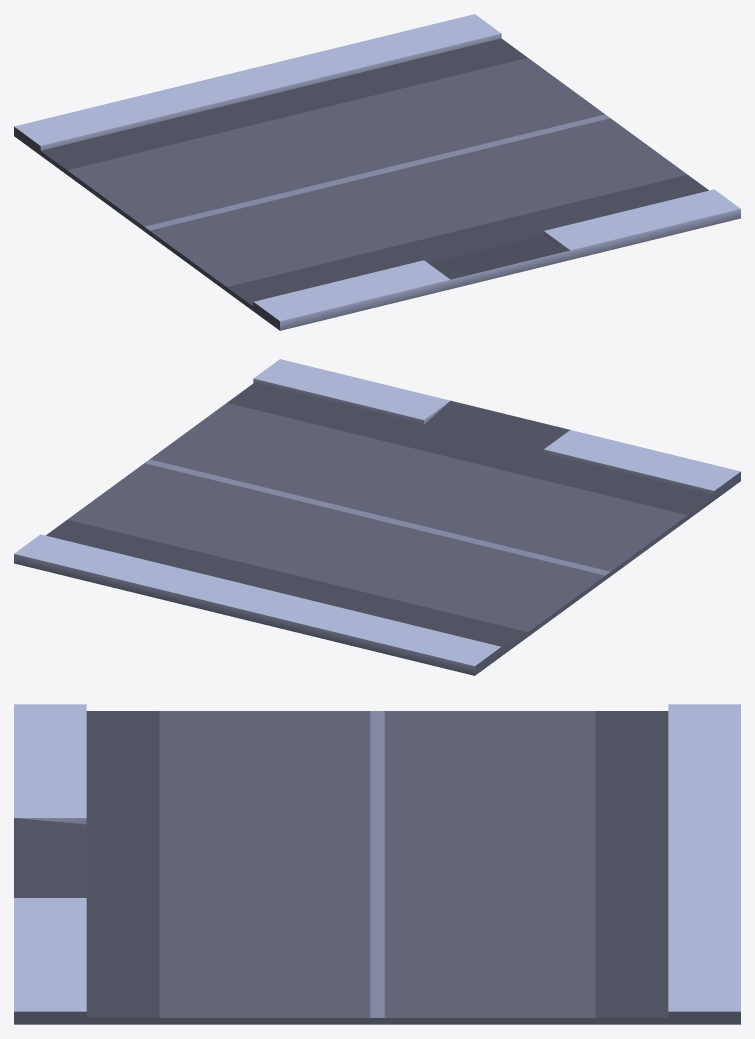
The model's file is road-driveway-single.fbx.
3 views of the same model, one above another, from view 1: azimuth 30°, elevation 25°; view 2: azimuth 150°, elevation 25°; view 3: azimuth 270°, elevation 25° (orthographic). The views are drawn at different scales.
Parts seen in each view (by area): view 1: road-driveway-single; view 2: road-driveway-single; view 3: road-driveway-single.
Part boxes in pixels (left/top/right/bottom): road-driveway-single: left=14, top=14, right=740, bottom=330; road-driveway-single: left=14, top=359, right=740, bottom=675; road-driveway-single: left=14, top=704, right=740, bottom=1024.
Bounding box in the file's own units: 100 × 2 × 100.
